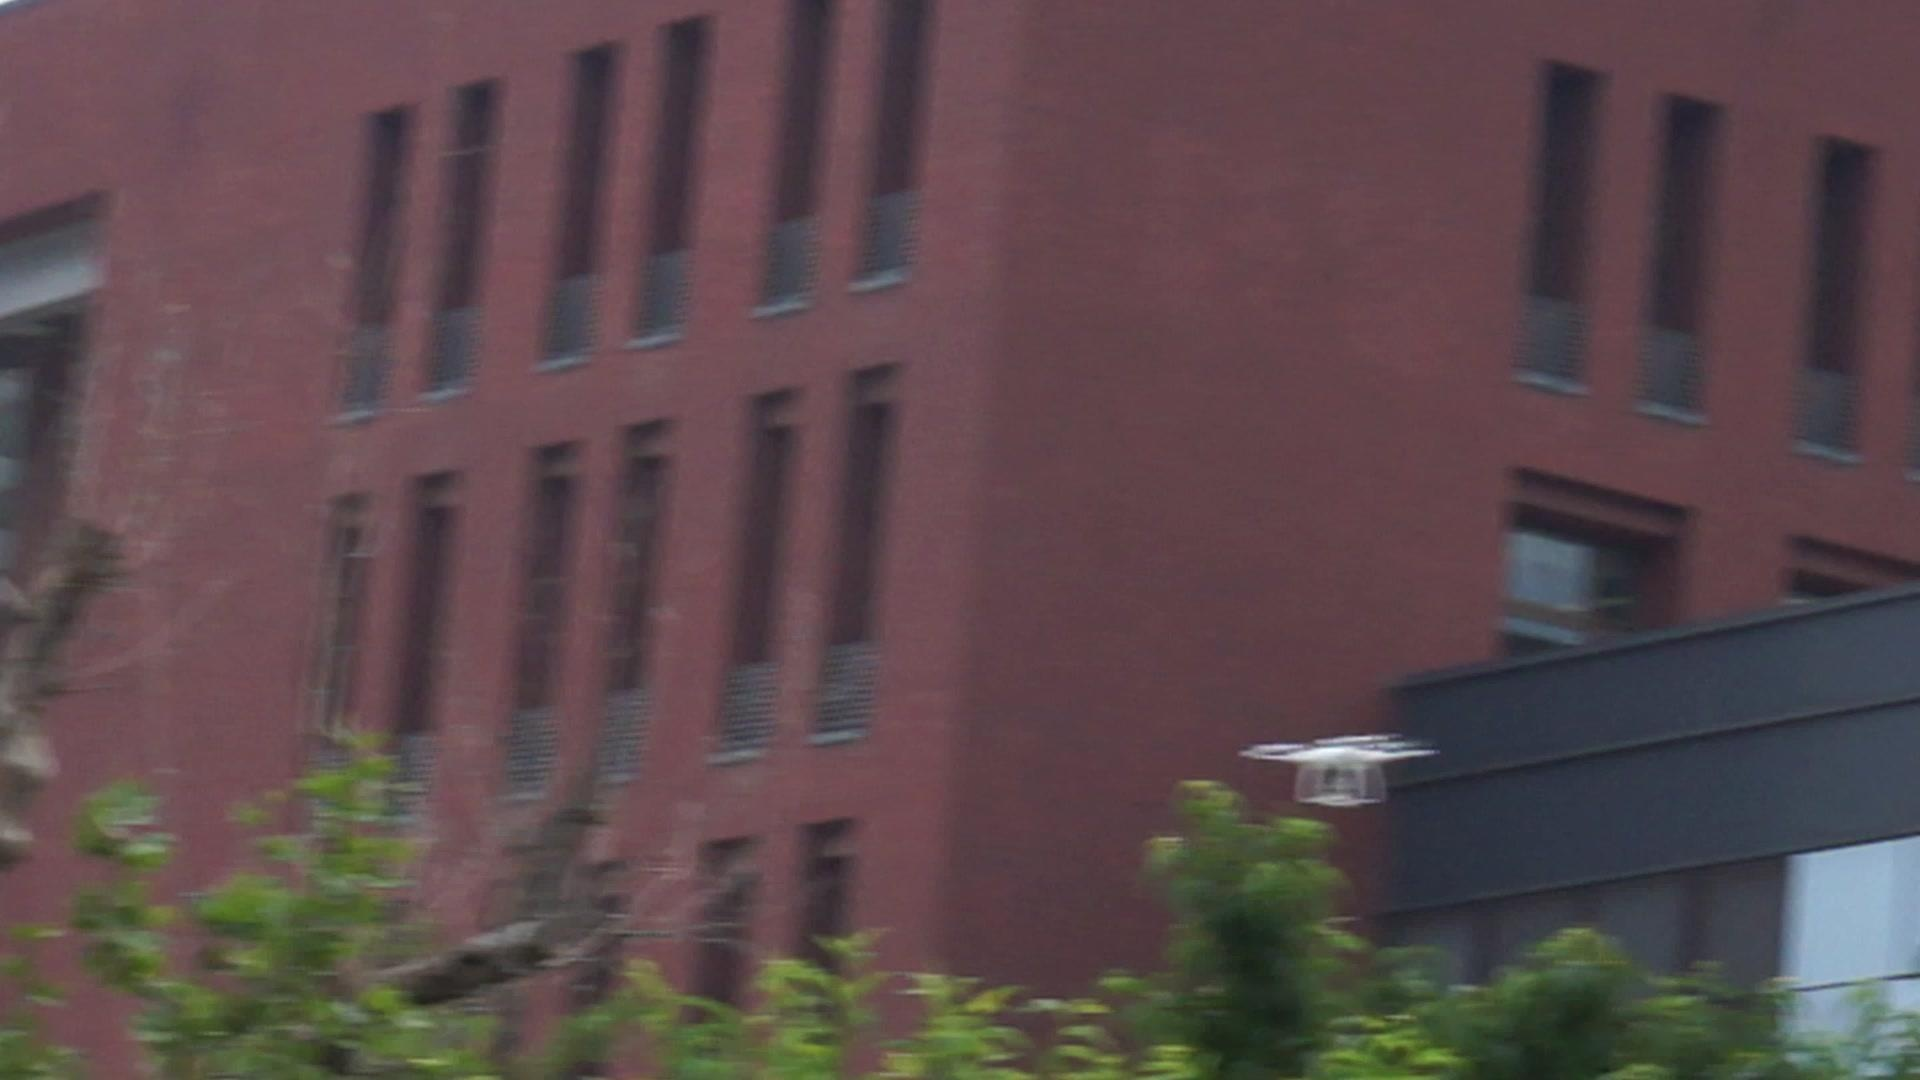UAV: (1237, 735, 1441, 808)
